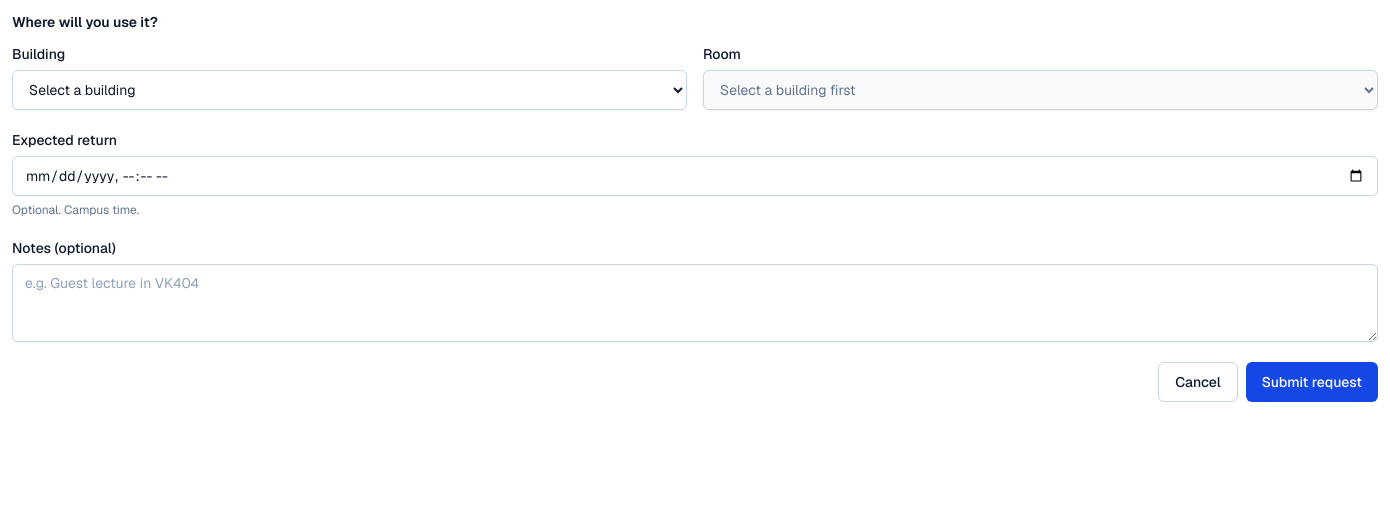
AssignmentForm › submits_the_usage_location_and_keeps_it_after_an_error
The image size is (1390, 507).
Select "Vivekananda (VK)" in the dropdown labelled "Building" at coordinates (350, 90), box [12,70,687,110]
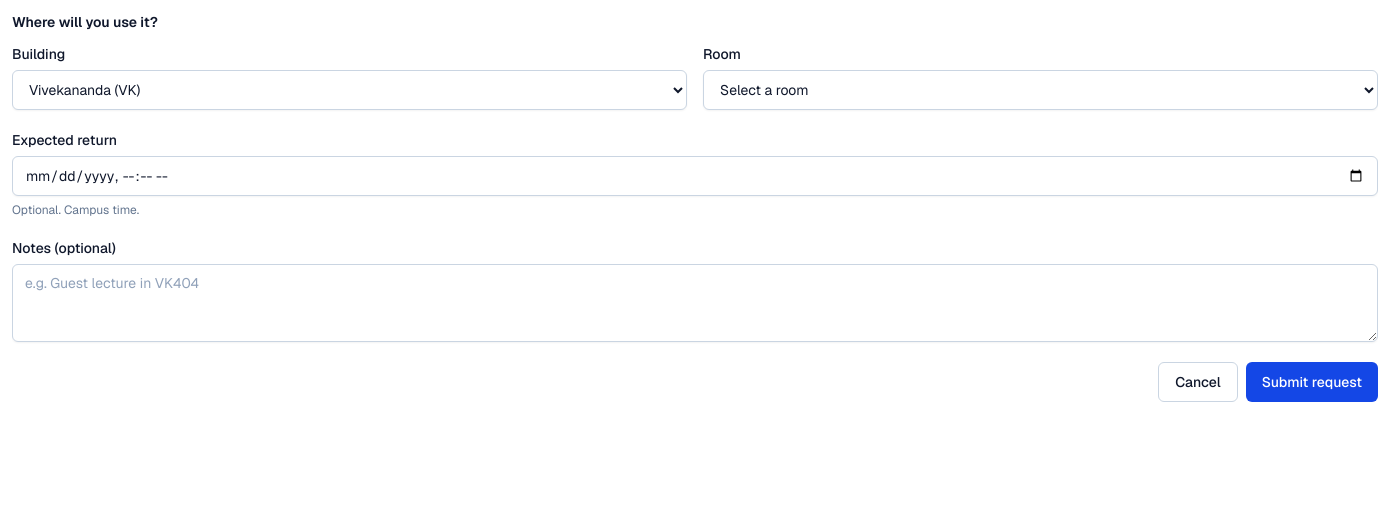
Select "VK404 — Classroom 404" in the dropdown labelled "Room" at coordinates (1040, 90), box [703,70,1378,110]
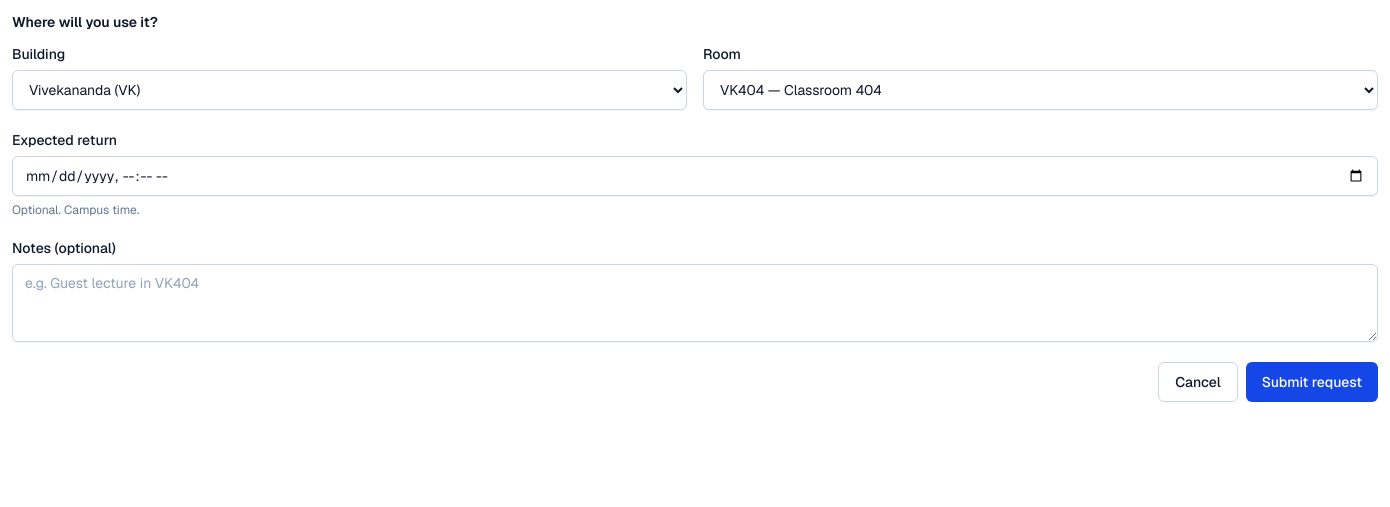
Click the button "Submit request" at coordinates (1312, 382), box [1246,362,1378,402]
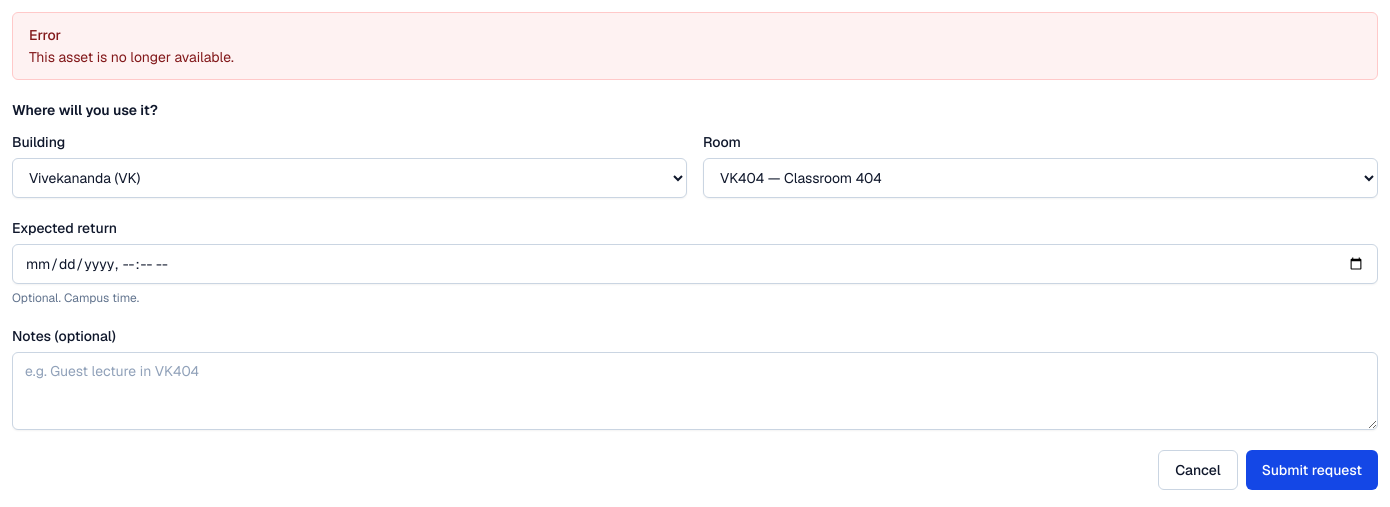
Now the message shows "This asset is no longer available.", box [29,48,234,66]
